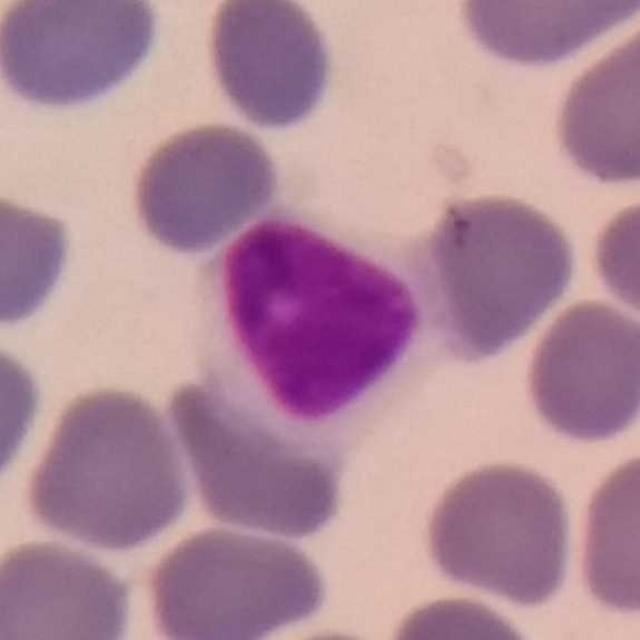Lymphocyte: (197, 195, 459, 462)
RBC: (162, 344, 360, 544), (19, 380, 195, 554), (422, 186, 583, 357), (420, 456, 578, 609), (140, 520, 334, 640), (124, 117, 284, 257), (0, 0, 168, 117), (200, 0, 340, 136), (518, 295, 640, 448), (547, 10, 640, 192), (0, 535, 139, 640), (451, 0, 639, 72), (569, 446, 640, 624), (0, 187, 78, 335), (380, 591, 548, 640), (585, 189, 640, 332), (0, 332, 47, 498), (217, 623, 411, 640)
